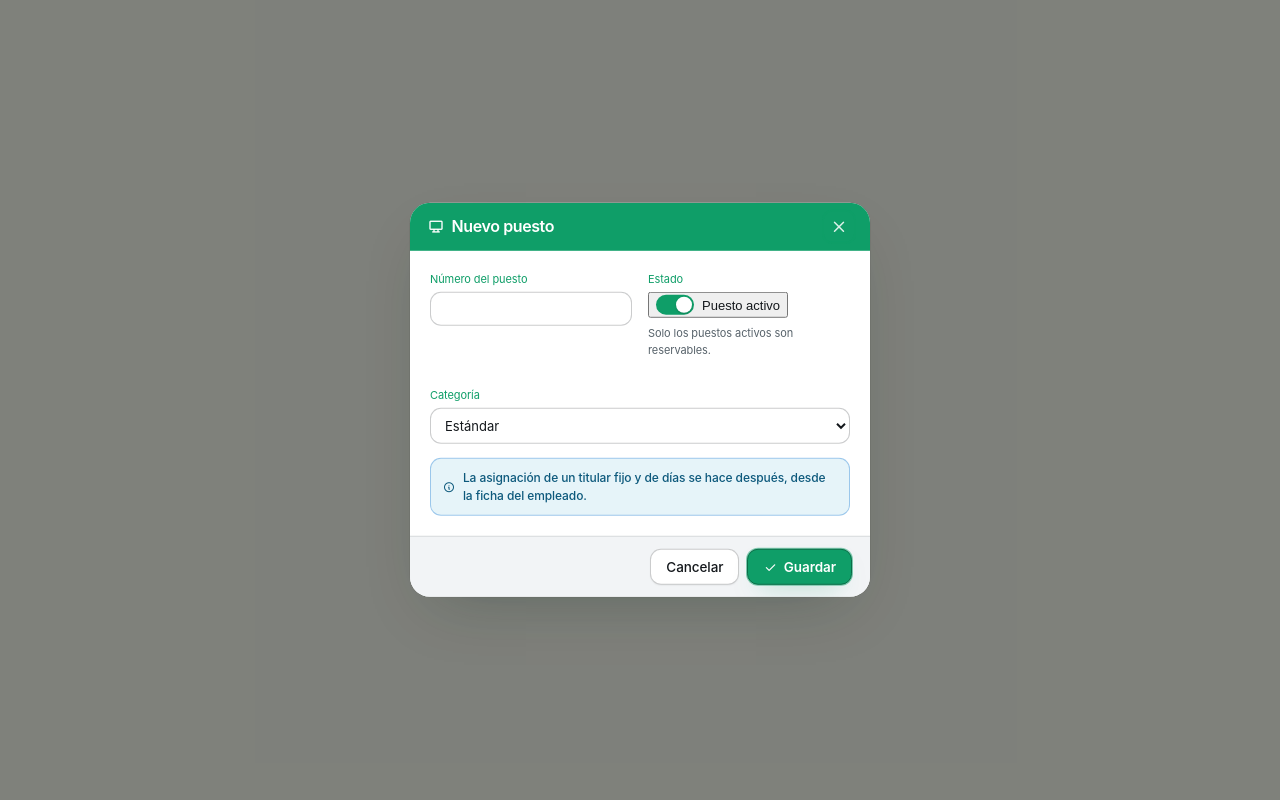
DeskFormModal › should_show_duplicate_error_when_server_returns_409
Type "5" into the number field labelled "Número del puesto" at (531, 309), box [430,292,632,326]
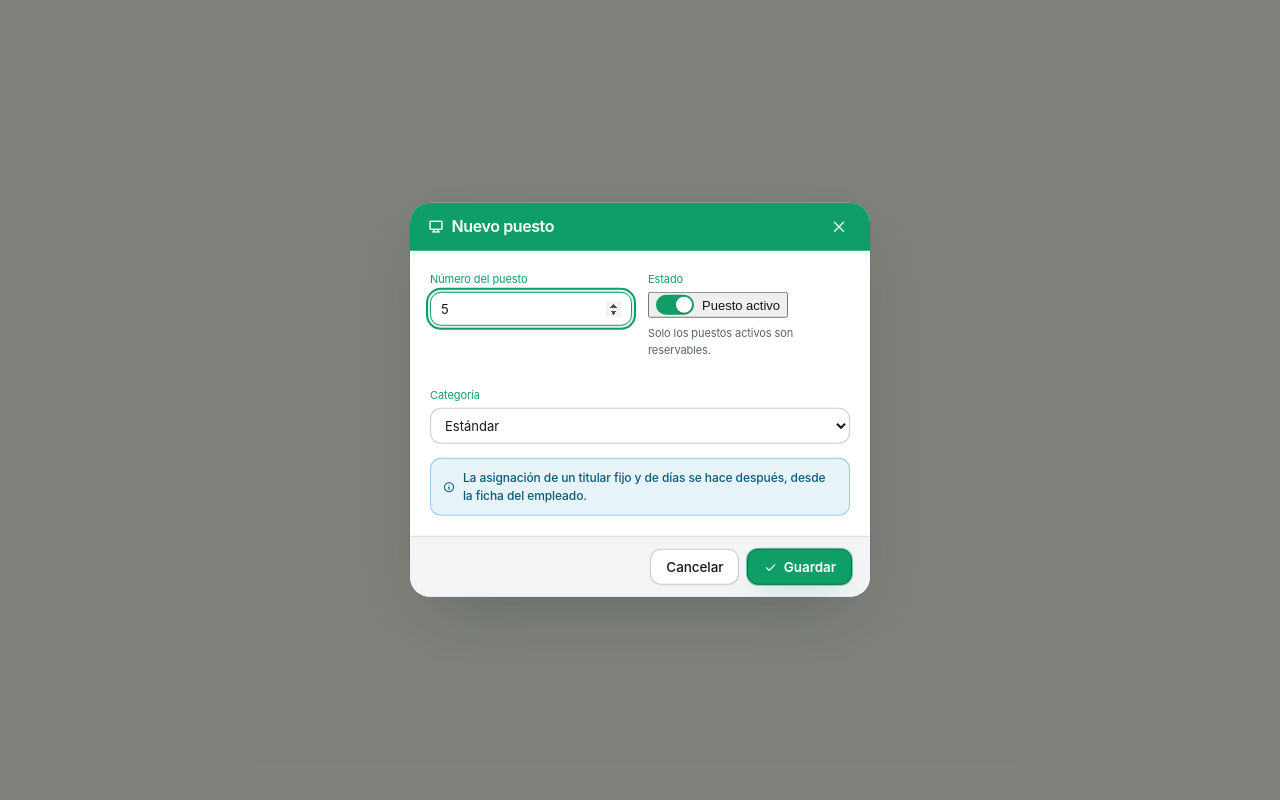
Click the button "Guardar" at (800, 567), box [747,549,852,585]
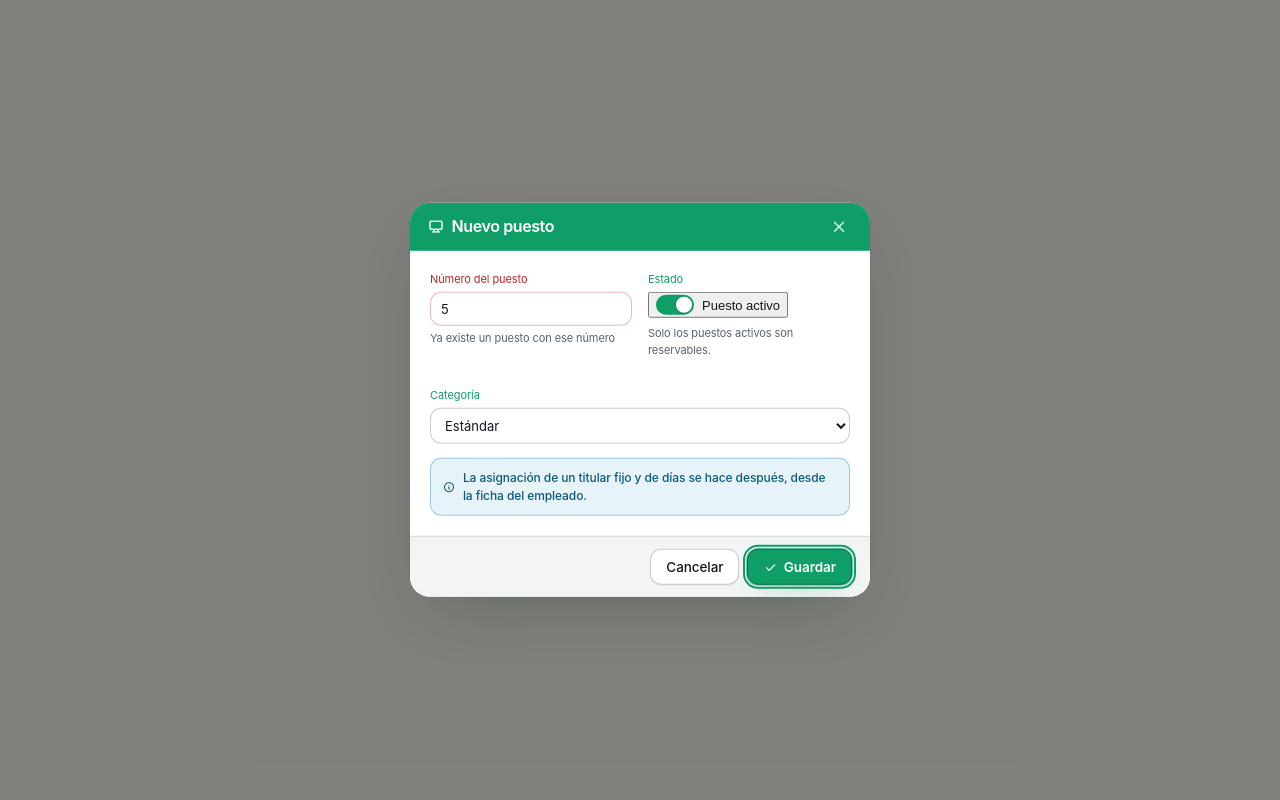
Now the text "Ya existe un puesto con ese número" is shown, box [430,330,632,347]
